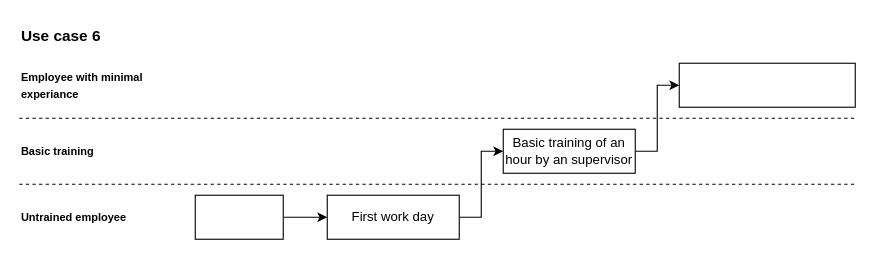
Image size: 876x259. Some labels were removed from this diagram. Each missing label, with the centre of its shape:
Minimum skilles gathered to run the Box office: the point at 766,84
New hire: the point at 238,216
